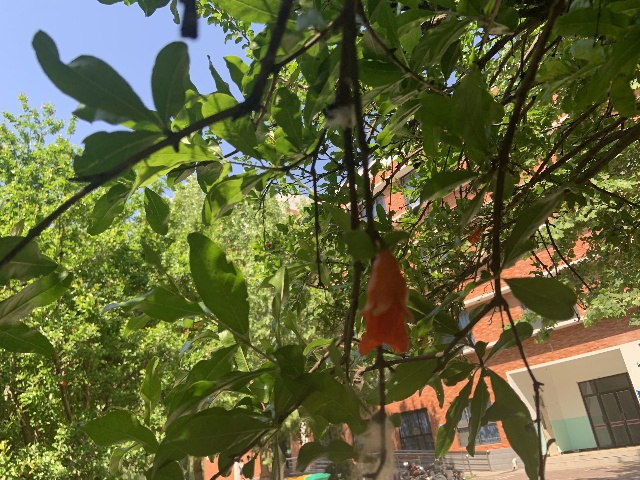flower: (358, 247, 413, 357), (468, 227, 481, 243)
